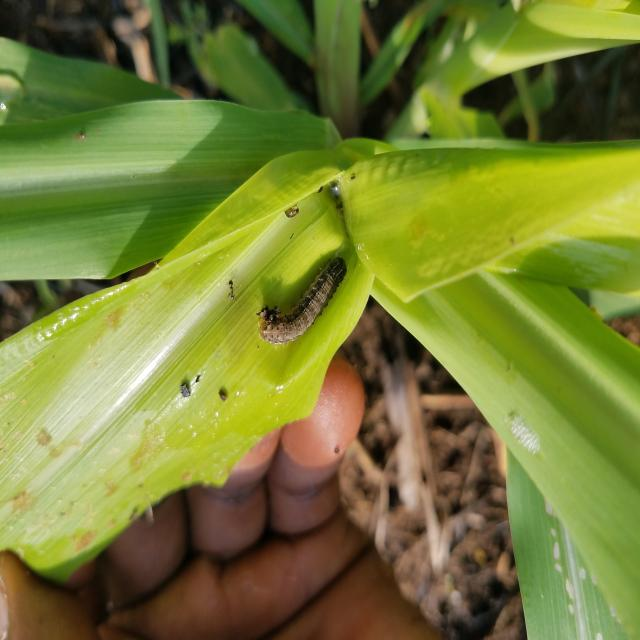yellow-stem-borer-larva: (235, 252, 363, 360)
